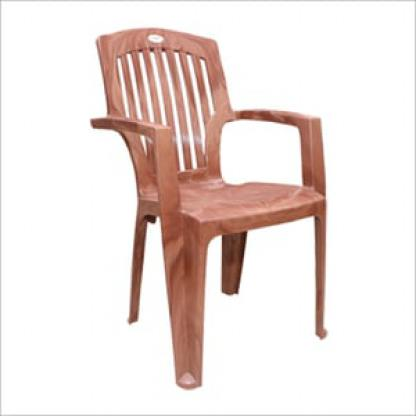chair: (92, 29, 345, 392)
